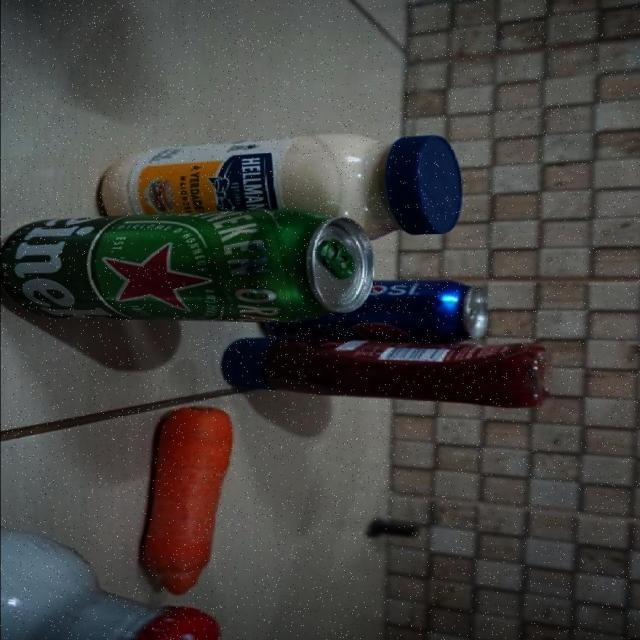BeerCan: (0, 209, 373, 324)
Carrot: (139, 407, 239, 595)
CoconutMilk: (0, 525, 220, 640)
Ketchup: (221, 338, 543, 408)
Mayonnaise: (102, 136, 462, 239)
SodaCan: (262, 280, 484, 343)
